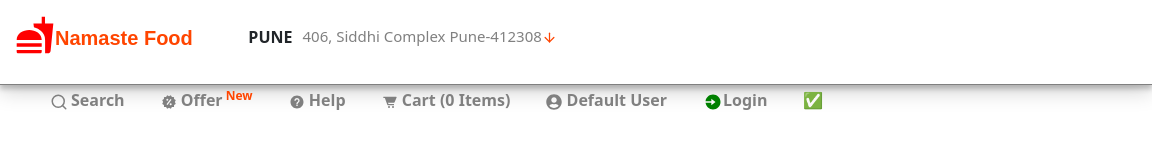
Should change Login to Logout on Click in Header Components
Click the link "Login": (735, 100) top-left (703, 89), bottom-right (768, 111)
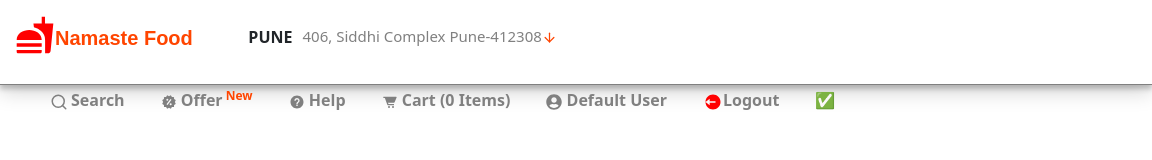
Expected: the link "Logout" is shown, top-left (703, 89), bottom-right (779, 111)
